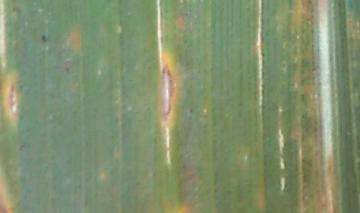tarspot: (299, 92, 306, 104), (18, 143, 26, 153), (39, 34, 47, 42), (187, 106, 195, 114), (63, 66, 70, 73), (280, 61, 286, 68), (300, 112, 305, 120)
